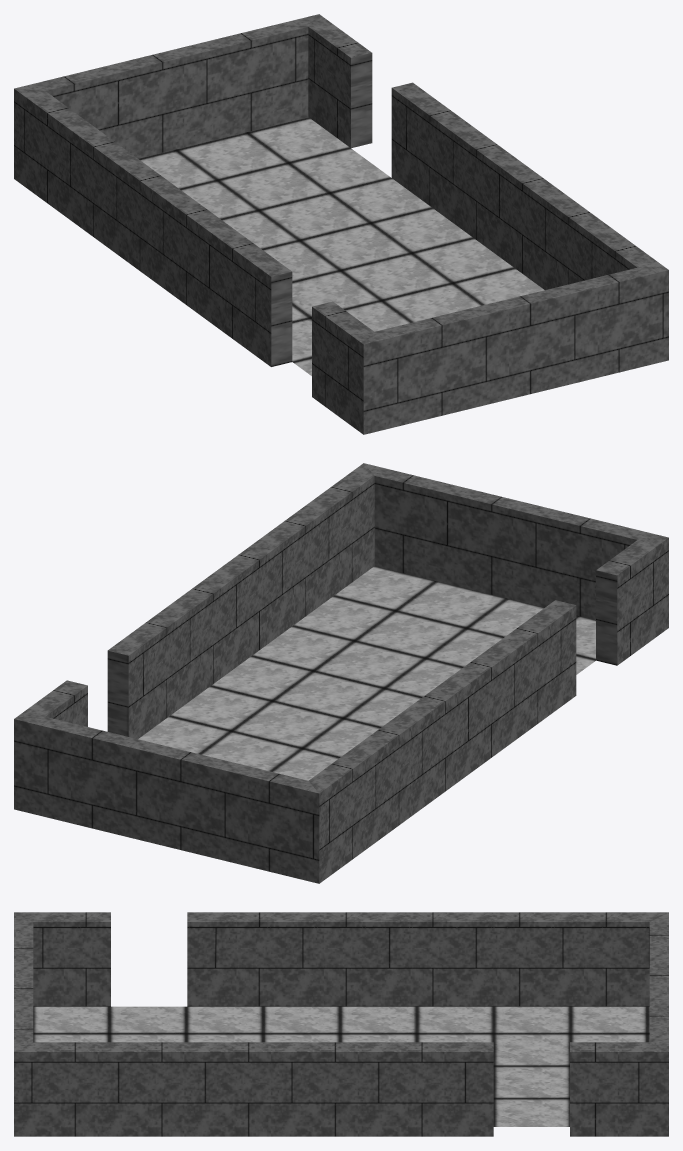
Rendered from Mock_map.fbx.
The picture shows the model from 3 angles, top to bottom: view 1: azimuth 30°, elevation 25°; view 2: azimuth 150°, elevation 25°; view 3: azimuth 270°, elevation 25°; orthographic projection. The views are drawn at different scales.
Visible parts, largest first — view 1: pCube1; view 2: pCube1; view 3: pCube1.
Part boxes in pixels (x1,y1,x2,y2): pCube1: [14, 14, 668, 434]; pCube1: [14, 463, 668, 883]; pCube1: [14, 912, 668, 1136].
Bounding box in the file's own units: 108 × 30.68 × 215.
